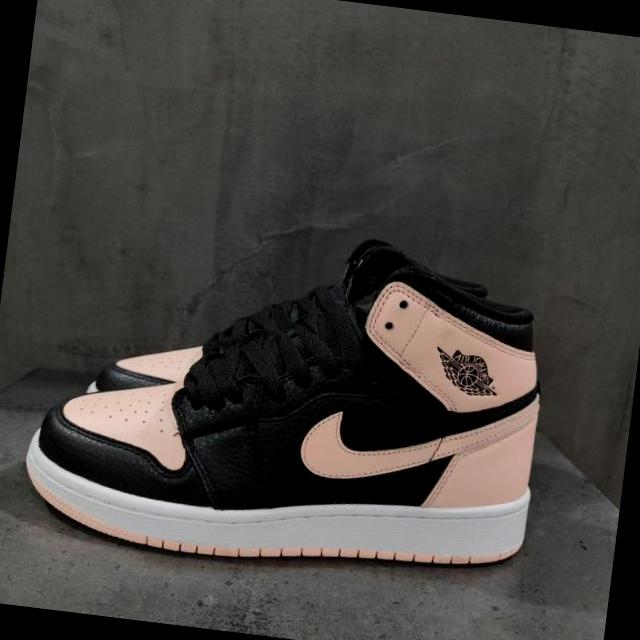nike_fake_jordan: (0, 198, 561, 599), (79, 202, 508, 436)
